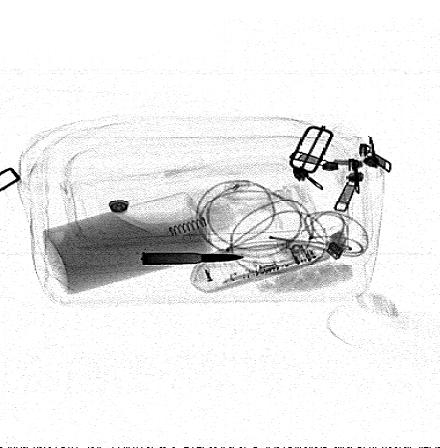Bullet: (137, 251, 247, 266)
